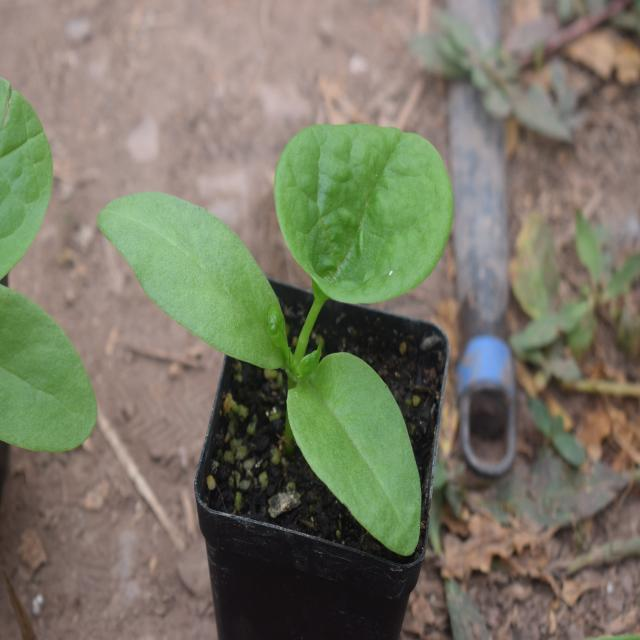Ceylon spinach: (124, 120, 481, 550)
